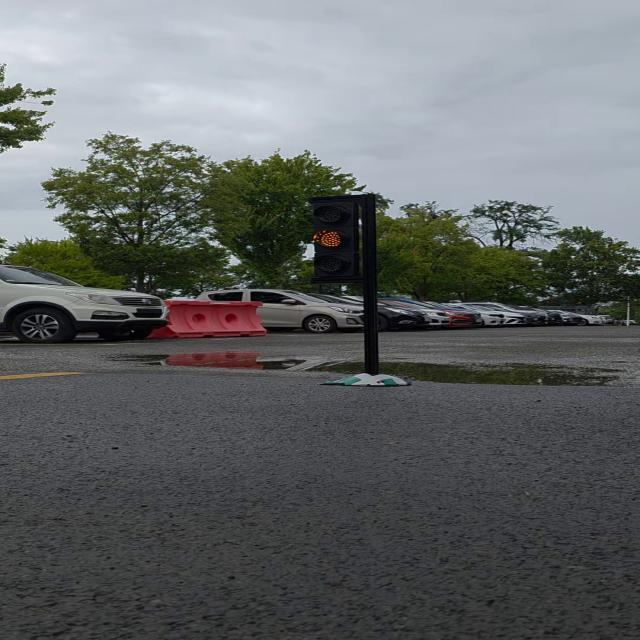yellow: (304, 194, 375, 285)
